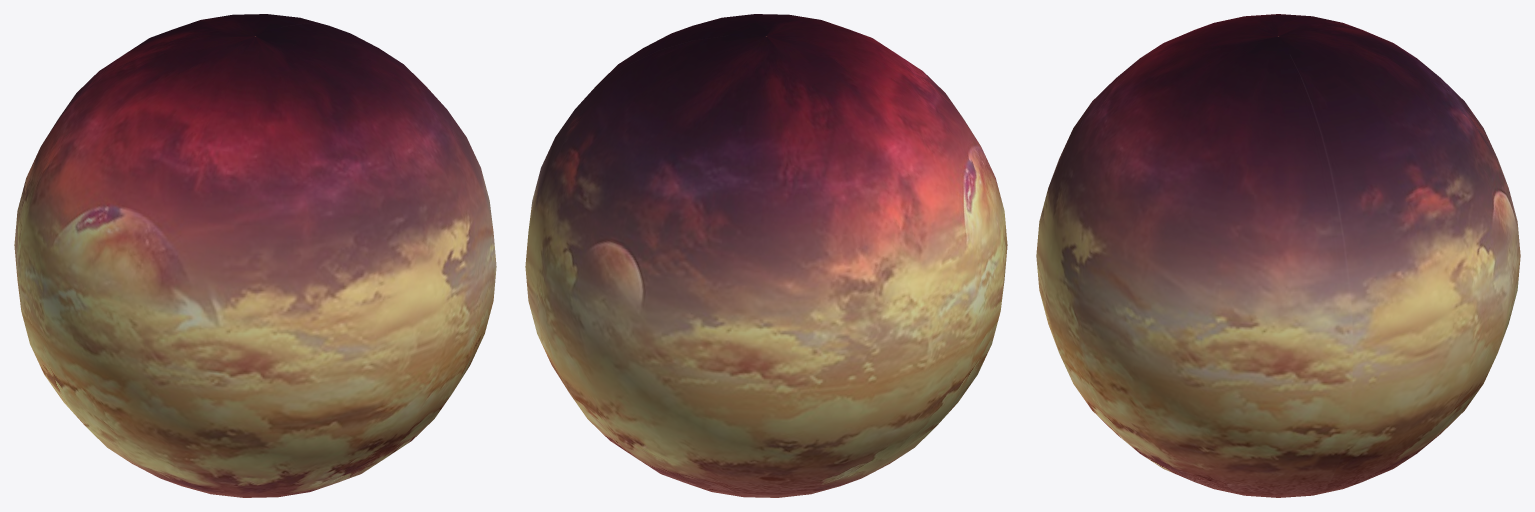
File: skysphere.obj
3 views of the same model, side by side, from view 1: azimuth 30°, elevation 25°; view 2: azimuth 150°, elevation 25°; view 3: azimuth 270°, elevation 25° (orthographic).
Visible parts, largest first — view 1: spacesphere; view 2: spacesphere; view 3: spacesphere.
Boxes of the visible parts, left/top/right/bottom form: spacesphere: left=14, top=14, right=496, bottom=497; spacesphere: left=525, top=14, right=1007, bottom=497; spacesphere: left=1036, top=14, right=1520, bottom=497.
Bounding box in the file's own units: 200 × 200 × 200.
